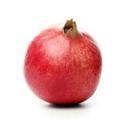apple: (22, 19, 103, 107)
